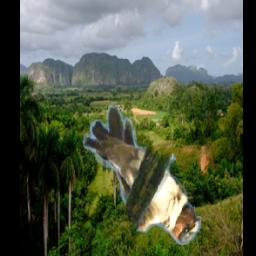Swallow: (83, 105, 201, 245)
